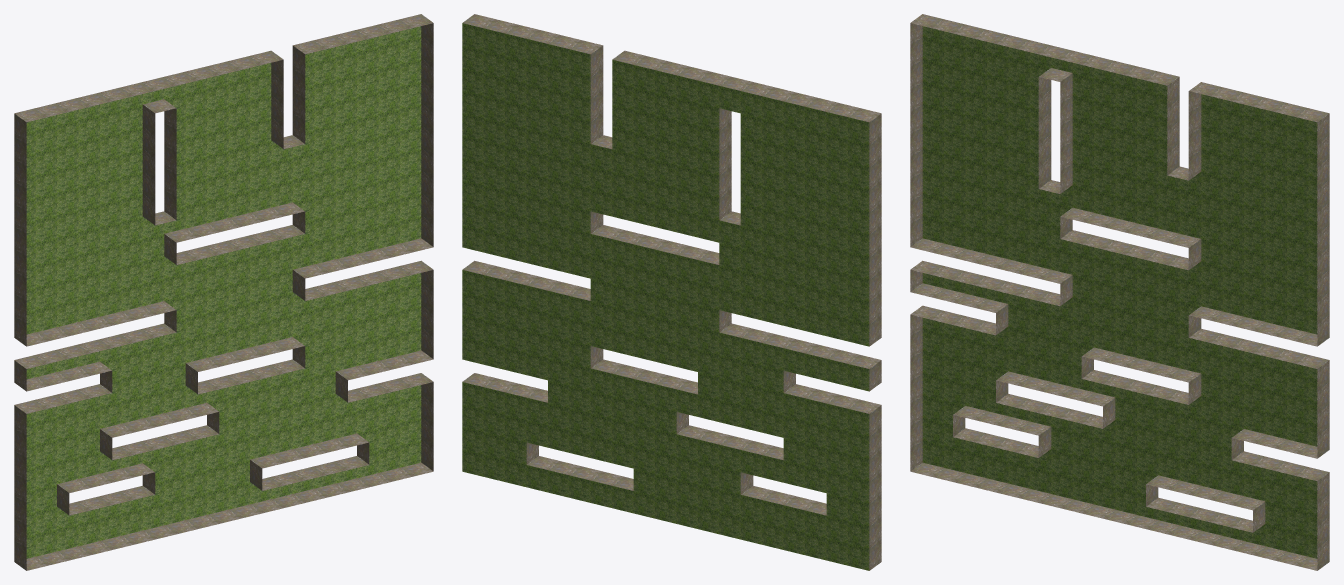
Rendered from montanha.obj.
The picture shows the model from 3 angles, left to right: view 1: azimuth 30°, elevation 25°; view 2: azimuth 150°, elevation 25°; view 3: azimuth 330°, elevation 25°; orthographic projection.
Bounding box in the file's own units: 19 × 20 × 1.
